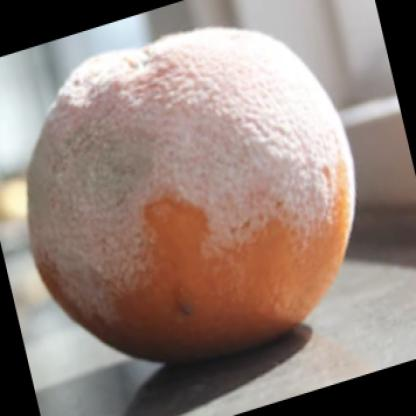rotten: (27, 28, 359, 361)
